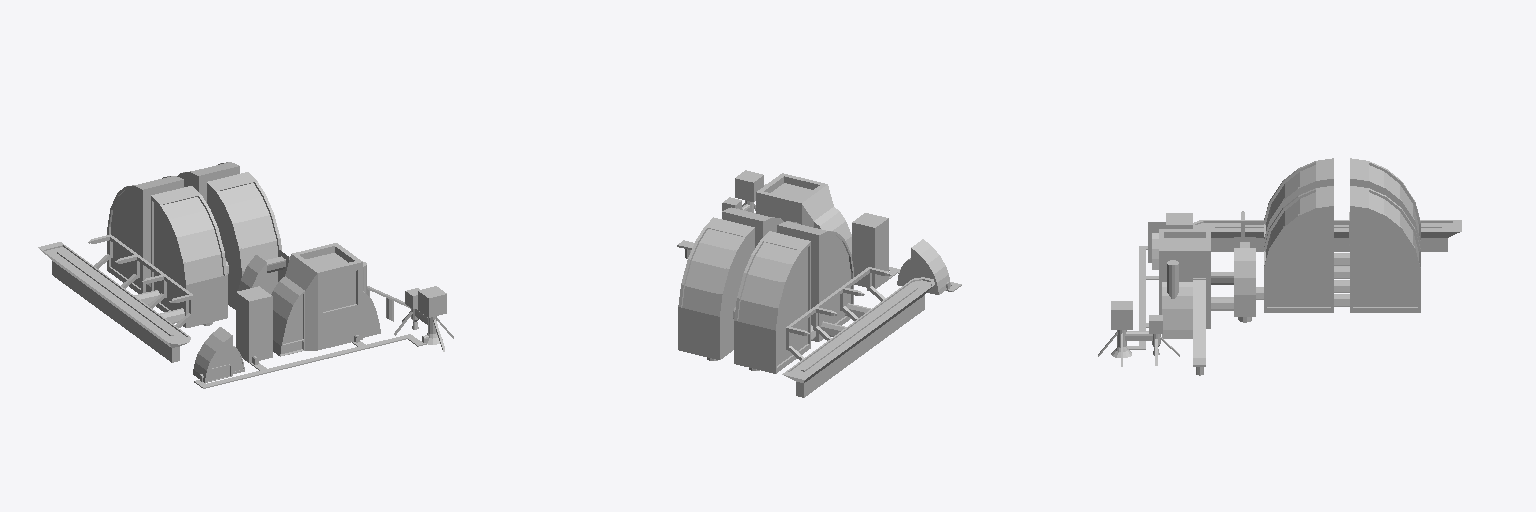
File: pit.obj
3 views of the same model, side by side, from view 1: azimuth 30°, elevation 25°; view 2: azimuth 150°, elevation 25°; view 3: azimuth 270°, elevation 25° (orthographic).
Parts seen in each view (by area): view 1: Cube, Cube_003, Cube_001, Cube_002, Plane, Cube_014, Plane_011, Plane_006, Cube_005; view 2: Cube, Cube_001, Cube_003, Cube_002, Cube_014, Plane, Cube_005; view 3: Cube, Cube_003, Cube_001, Plane_006, Cube_004, Plane_009, Plane_011, Cube_005, Plane.
Boxes of the visible parts, x1=… form: Cube: x1=107, y1=162, x2=281, y2=327; Cube_003: x1=271, y1=243, x2=380, y2=356; Cube_001: x1=38, y1=242, x2=190, y2=362; Cube_002: x1=236, y1=286, x2=272, y2=362; Plane: x1=193, y1=327, x2=244, y2=382; Cube_014: x1=90, y1=234, x2=193, y2=327; Plane_011: x1=194, y1=334, x2=426, y2=388; Plane_006: x1=238, y1=249, x2=289, y2=291; Cube_005: x1=418, y1=286, x2=446, y2=317; Cube: x1=678, y1=207, x2=853, y2=373; Cube_001: x1=782, y1=277, x2=934, y2=397; Cube_003: x1=756, y1=173, x2=851, y2=253; Cube_002: x1=852, y1=213, x2=888, y2=288; Cube_014: x1=786, y1=267, x2=888, y2=360; Plane: x1=897, y1=239, x2=950, y2=294; Cube_005: x1=735, y1=170, x2=763, y2=201; Cube: x1=1264, y1=158, x2=1420, y2=312; Cube_003: x1=1159, y1=229, x2=1210, y2=338; Cube_001: x1=1193, y1=220, x2=1461, y2=251; Plane_006: x1=1234, y1=237, x2=1255, y2=316; Cube_004: x1=1193, y1=280, x2=1205, y2=375; Plane_009: x1=1334, y1=253, x2=1349, y2=306; Plane_011: x1=1127, y1=246, x2=1158, y2=349; Cube_005: x1=1111, y1=301, x2=1132, y2=329; Plane: x1=1148, y1=222, x2=1165, y2=269.
Size of the model in its own units: 4 by 1.79 by 4.94.